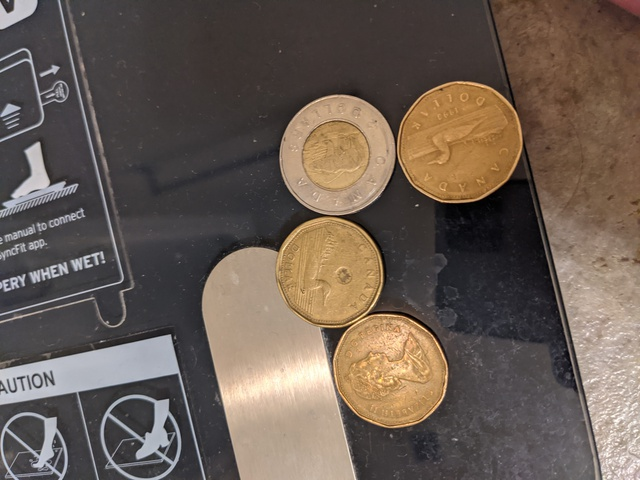loonie: (390, 77, 544, 204), (312, 310, 463, 426), (267, 210, 384, 321)
twonie: (266, 95, 398, 212)
